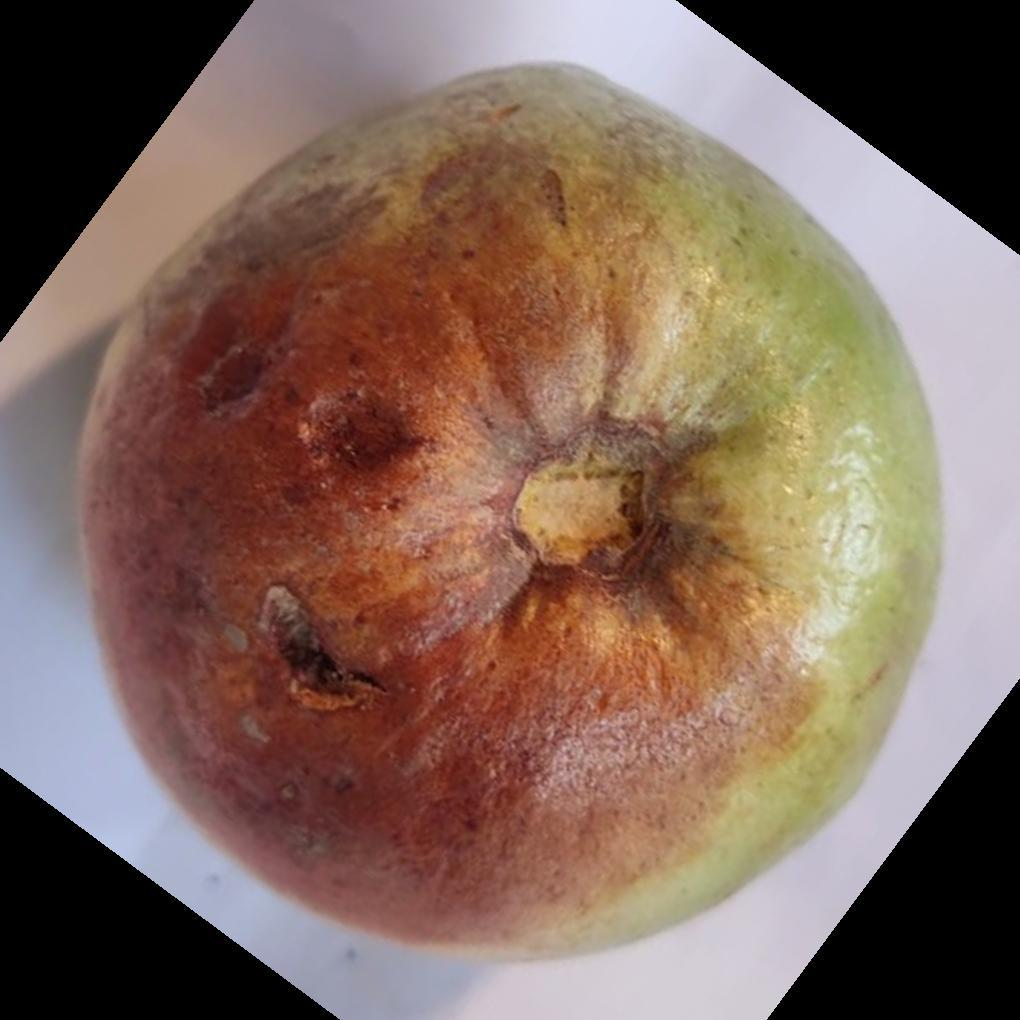FreshOrange: (71, 61, 946, 969)
